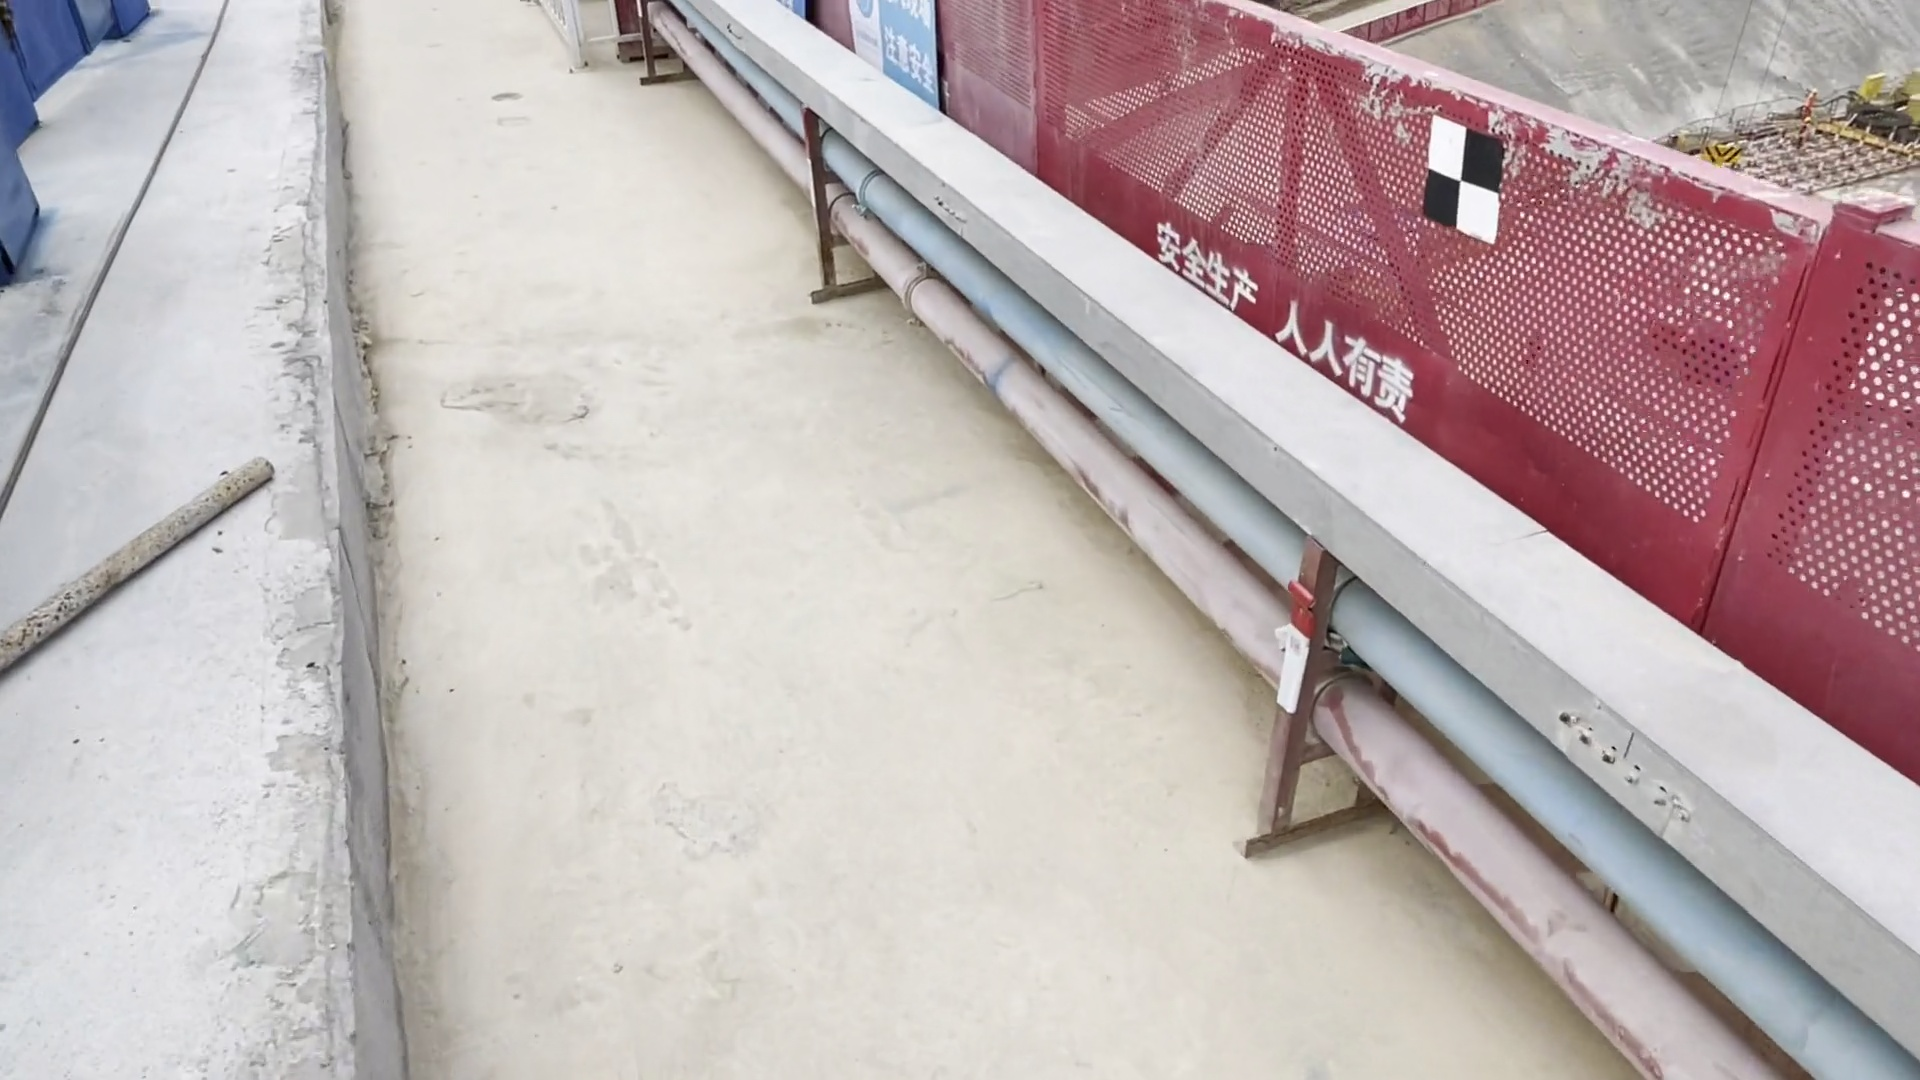fence: (1211, 11, 1907, 607)
slogan: (1154, 219, 1451, 430), (831, 1, 963, 129)
